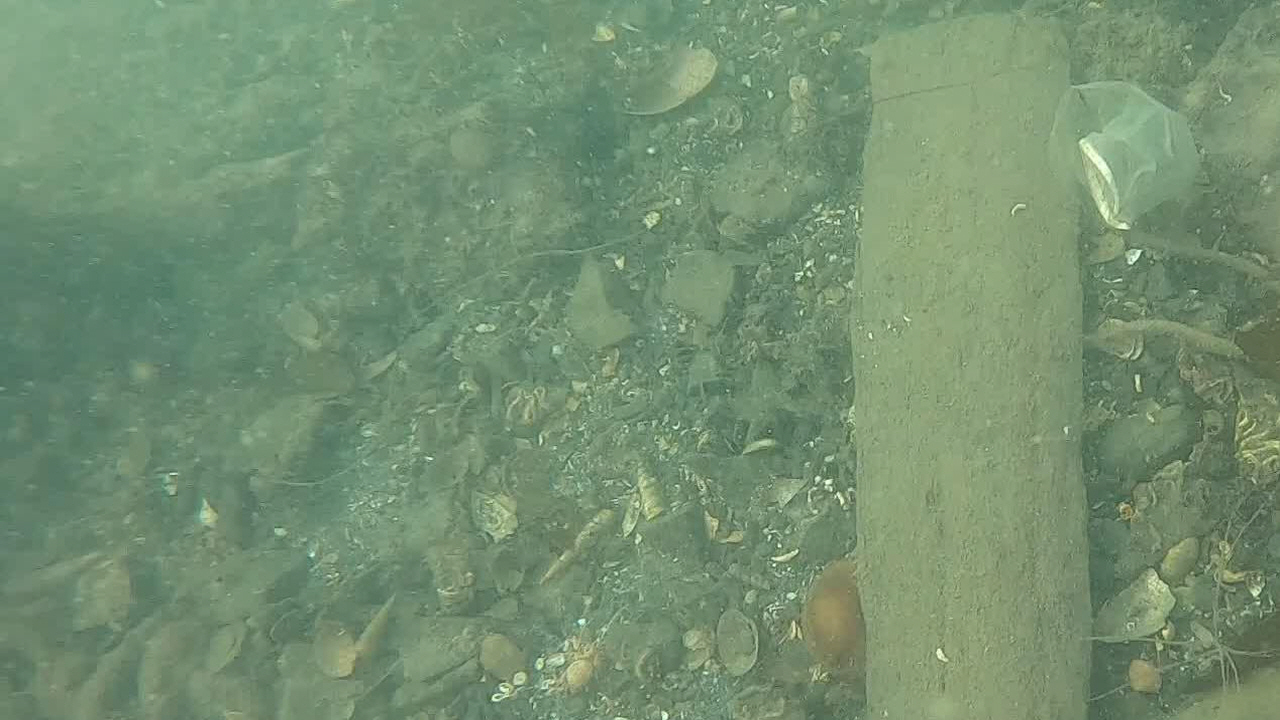wood: (846, 8, 1097, 720)
